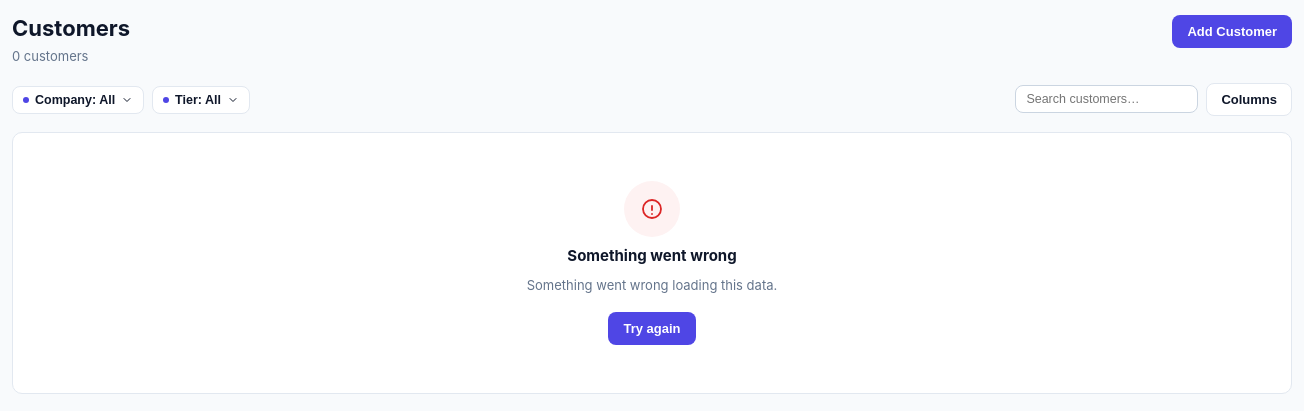
Test: CustomersPage › renders the error state with a retry that refetches
This screenshot has width=1304, height=411.
Step 1. Click the button "Try again" → (652, 328), box [608,312,696,345]
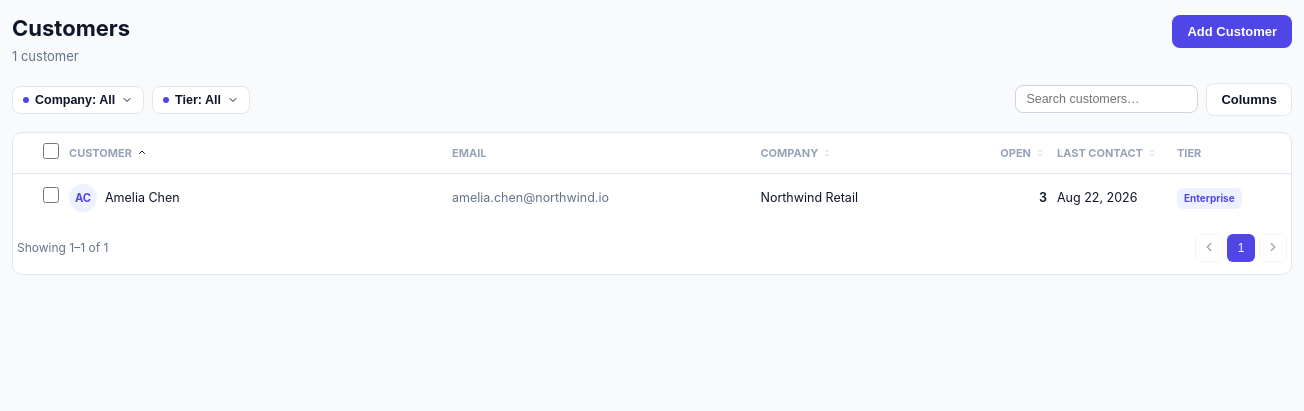
Result: the text "Amelia Chen" is shown at [105,190,180,205]
